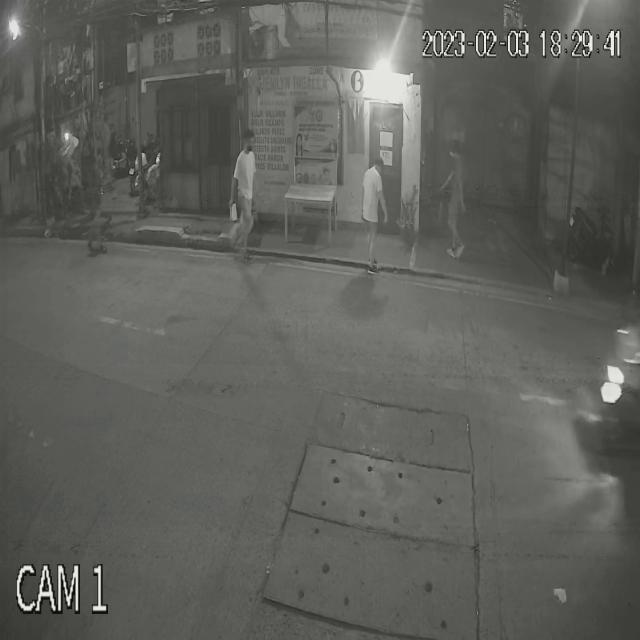human: (228, 130, 260, 262)
trash: (226, 192, 240, 226)
